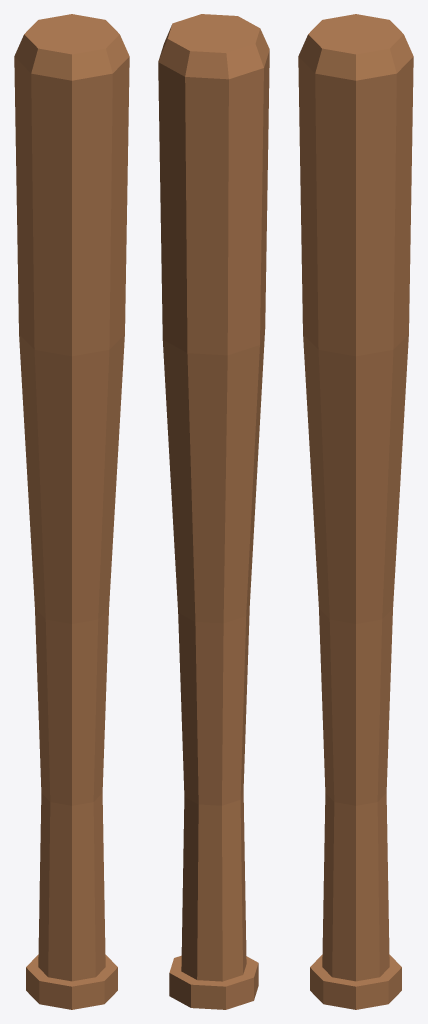
The model's file is Baseball_bat.fbx.
3 renders of one model, left to right at view 1: azimuth 90°, elevation 25°; view 2: azimuth 150°, elevation 25°; view 3: azimuth 270°, elevation 25°, orthographic.
Parts seen in each view (by area): view 1: Baseball_bat; view 2: Baseball_bat; view 3: Baseball_bat.
Boxes of the visible parts, bbox=[...] form: Baseball_bat: bbox=[14, 14, 129, 1009]; Baseball_bat: bbox=[158, 14, 269, 1009]; Baseball_bat: bbox=[298, 14, 413, 1009].
Bounding box in the file's own units: 18.13 × 166 × 18.13.
